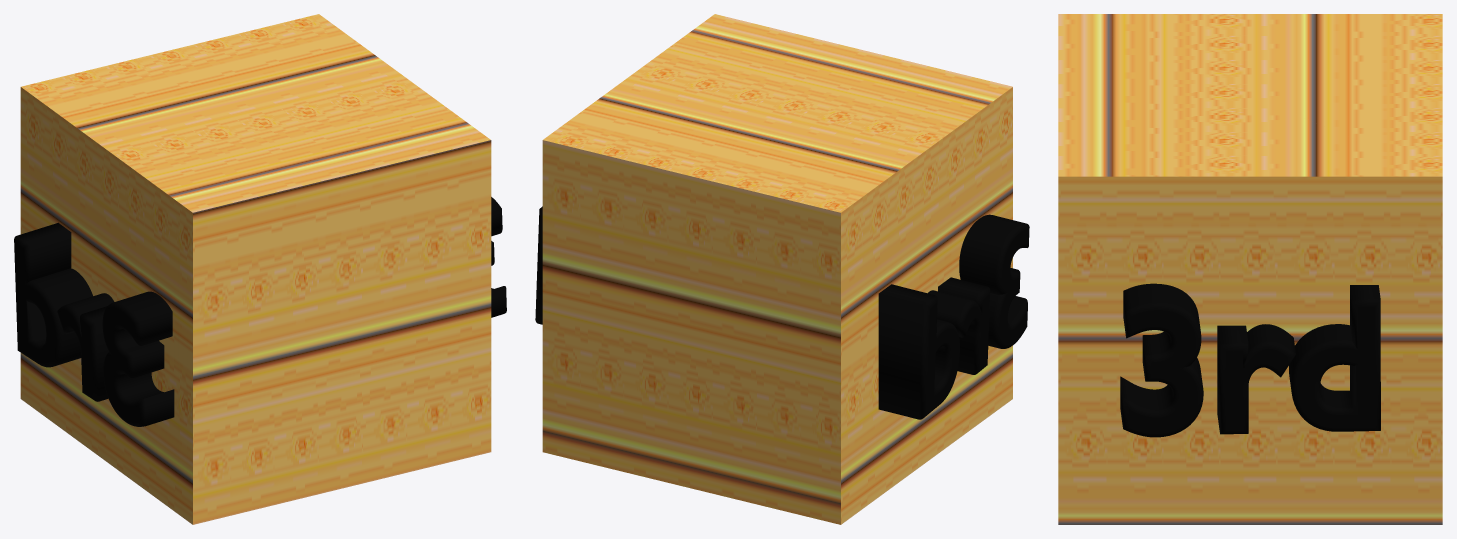
File: stage_3_Cube.obj
The picture shows the model from 3 angles, left to right: view 1: azimuth 30°, elevation 25°; view 2: azimuth 150°, elevation 25°; view 3: azimuth 270°, elevation 25°; orthographic projection. The views are drawn at different scales.
Parts seen in each view (by area): view 1: 立方体; view 2: 立方体; view 3: 立方体.
Part boxes in pixels (x1=…): 立方体: x1=14, y1=14, x2=506, y2=524; 立方体: x1=535, y1=14, x2=1029, y2=524; 立方体: x1=1058, y1=14, x2=1442, y2=524.
Bounding box in the file's own units: 2.63 × 2 × 2.
